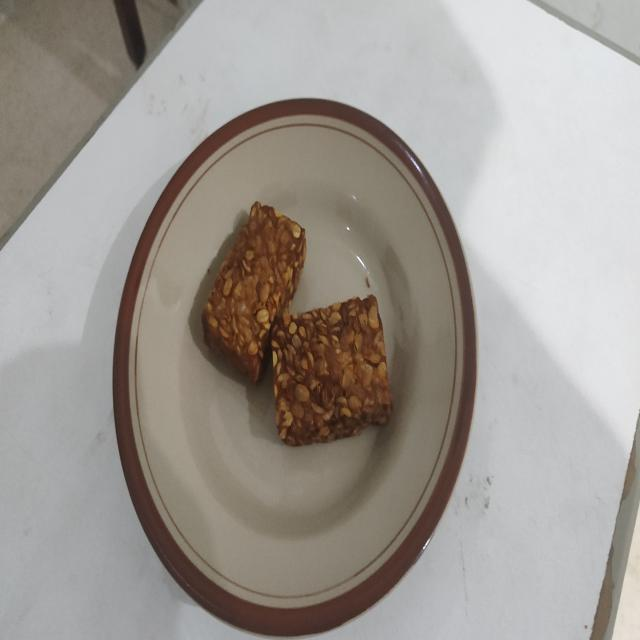tempe_goreng: (202, 202, 306, 380), (272, 295, 392, 445)
